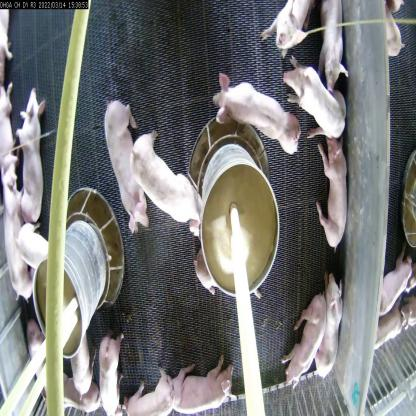Pig: (129, 129, 206, 237), (211, 70, 301, 156), (99, 92, 150, 235), (281, 57, 347, 140), (311, 127, 351, 252), (1, 162, 32, 304), (14, 92, 46, 226), (170, 354, 233, 415), (287, 292, 327, 387), (311, 0, 347, 95), (318, 267, 343, 389), (93, 332, 128, 416), (259, 0, 311, 54), (122, 365, 174, 416), (18, 224, 50, 272)
